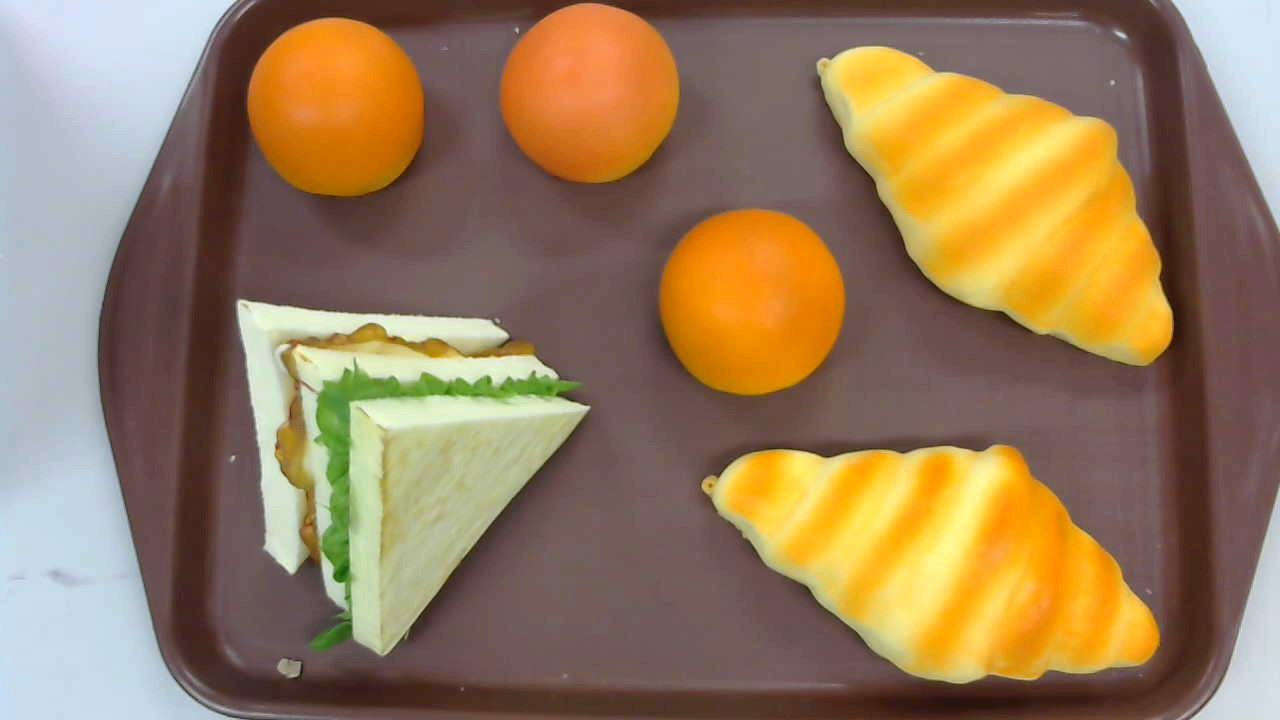bun: (659, 208, 847, 395), (499, 3, 680, 184), (246, 17, 425, 196)
croissant: (816, 46, 1173, 367), (700, 443, 1159, 684)
sandwich: (235, 297, 592, 658)
